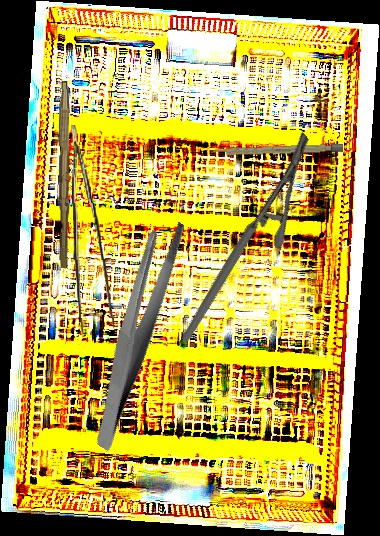Dressing Forceps: (39, 211, 233, 453)
Needle Holder: (129, 130, 360, 345)
Scalpel Handle: (55, 80, 72, 269), (210, 143, 344, 157)
Tissue Forceps: (71, 124, 114, 339)
